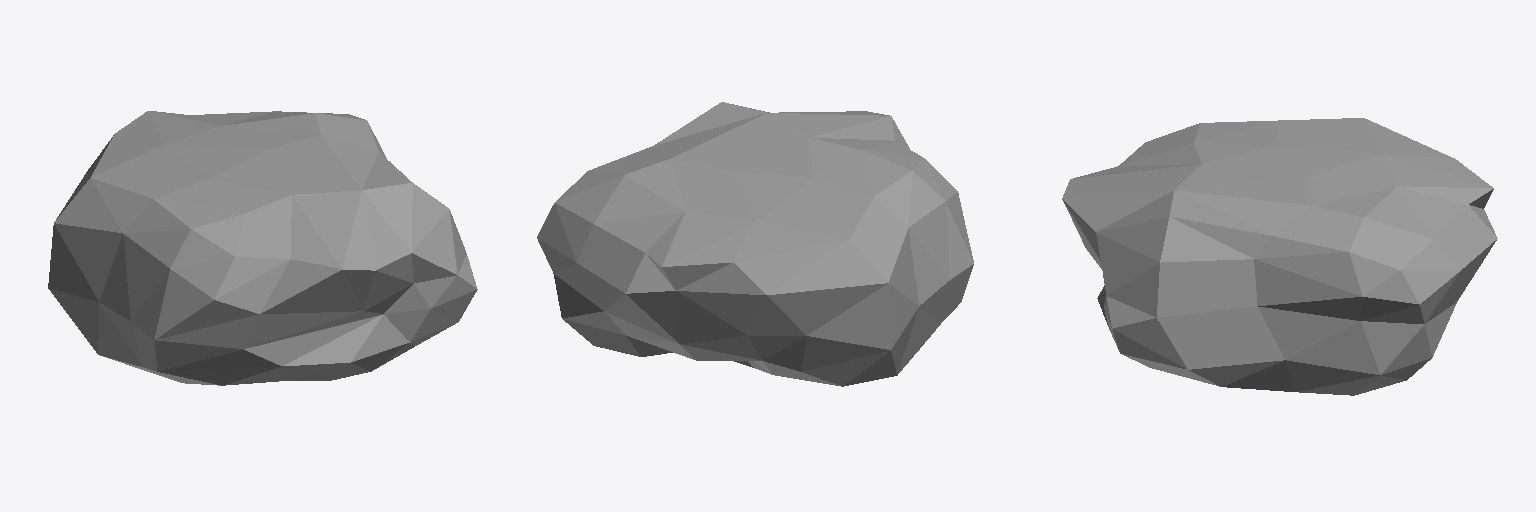
The model's file is Rock.obj.
3 renders of one model, left to right at view 1: azimuth 30°, elevation 25°; view 2: azimuth 150°, elevation 25°; view 3: azimuth 270°, elevation 25°, orthographic.
Parts seen in each view (by area): view 1: Rock; view 2: Rock; view 3: Rock.
Boxes of the visible parts, box(x1,y1,x2,y2) form: Rock: box(48, 111, 477, 385); Rock: box(537, 102, 973, 386); Rock: box(1062, 118, 1497, 395).
Bounding box in the file's own units: 3.18 × 1.68 × 3.63.